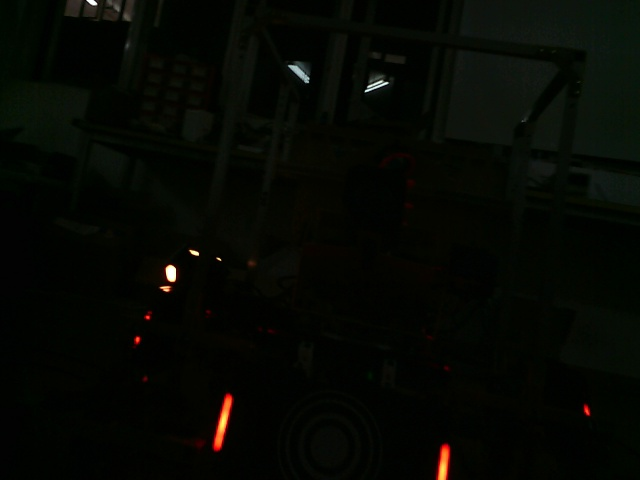lamp: (212, 390, 235, 455)
